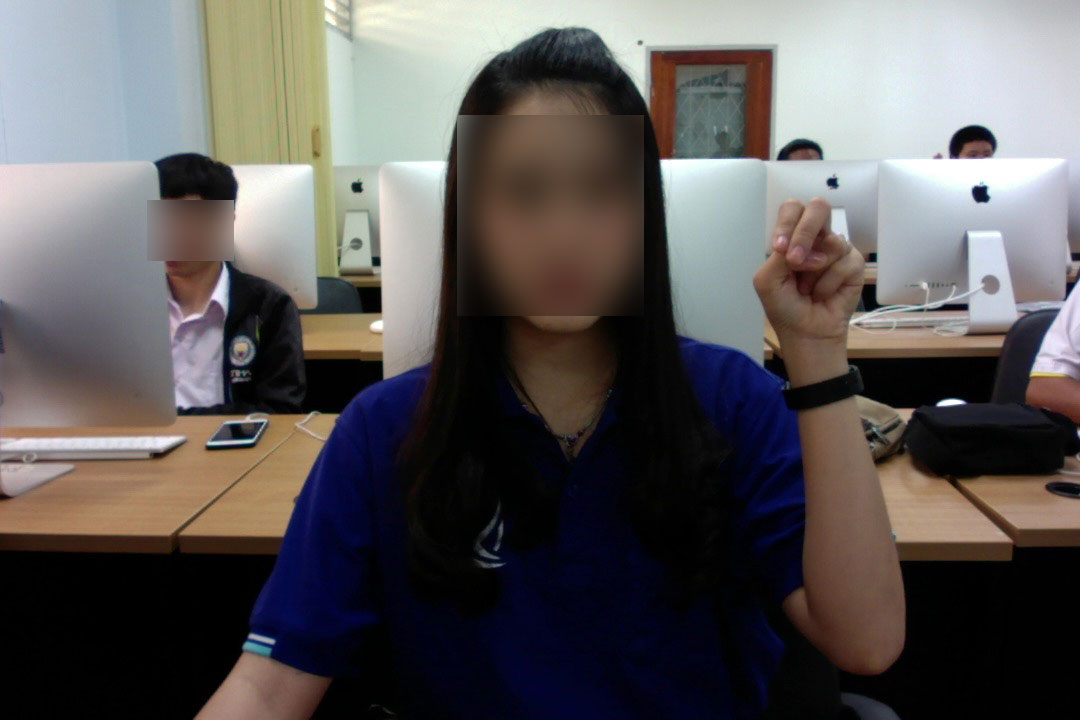nor: (749, 188, 870, 365)
